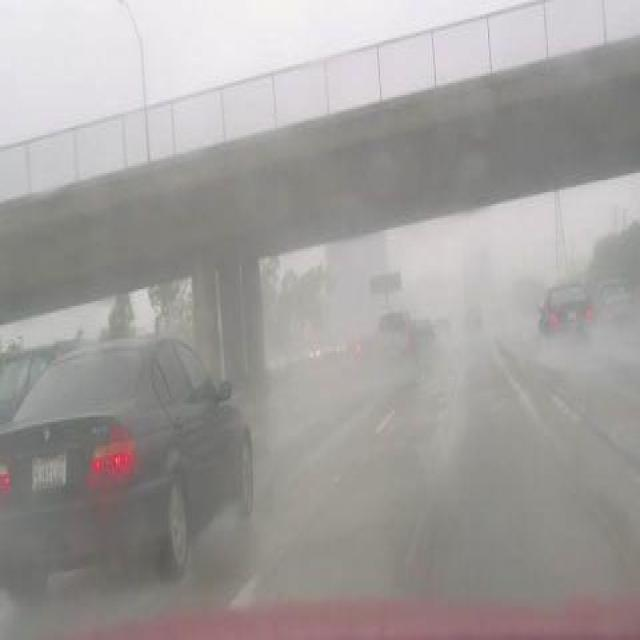Car: (0, 328, 256, 599), (538, 282, 594, 350)
